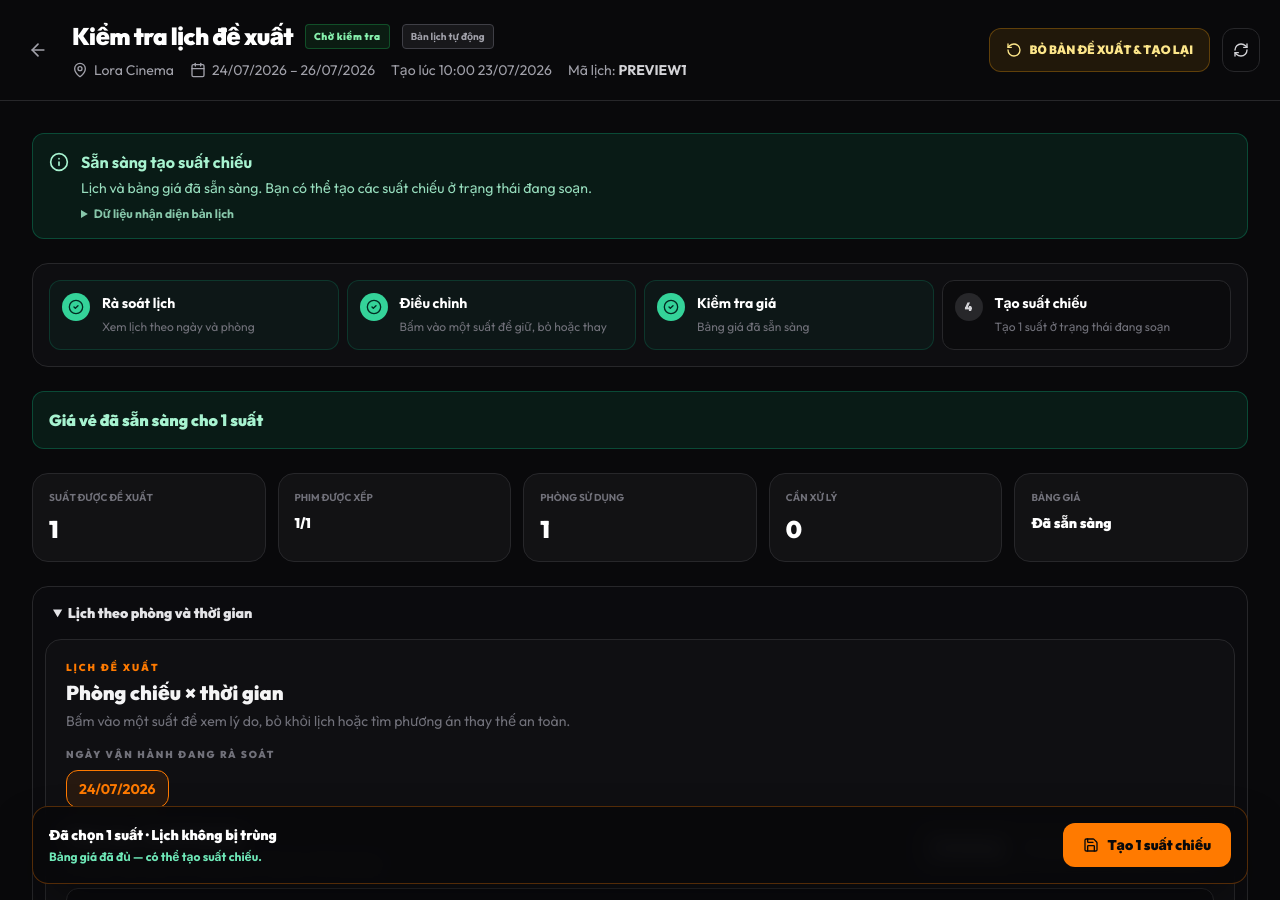
AdminAutoSchedulePreviewPage Milestone C › discards an unapplied preview and opens a prefilled recreate flow
Click the button "Bỏ bản đề xuất & tạo lại". click: x=1099, y=50
box: top-left (988, 28), bottom-right (1210, 72)
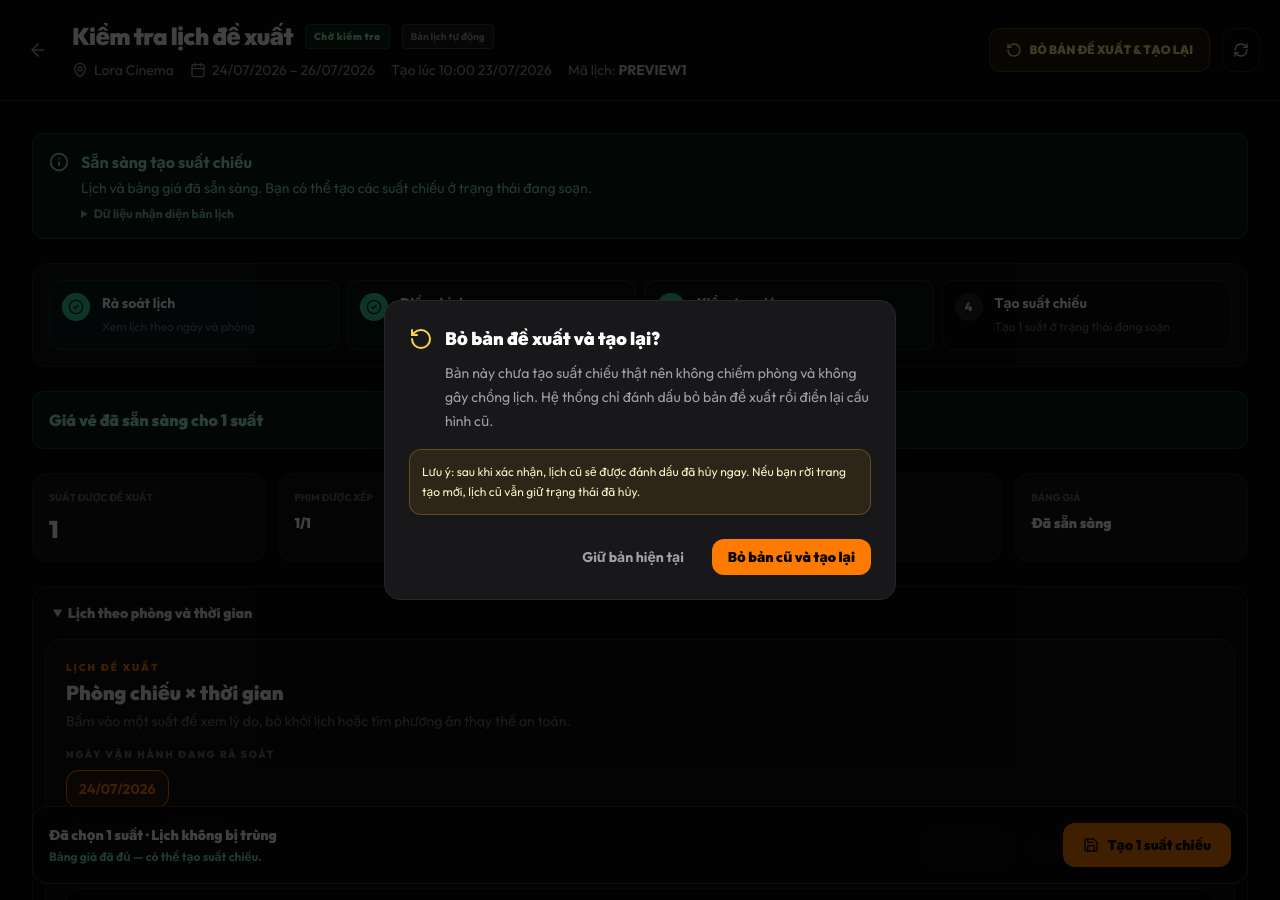
Check: the dialog shows "chưa tạo suất chiếu thật", box top-left (445, 364), bottom-right (869, 430)
Click the button "Bỏ bản cũ và tạo lại". click: x=791, y=557
box: top-left (712, 539), bottom-right (871, 575)
(page scrolled)
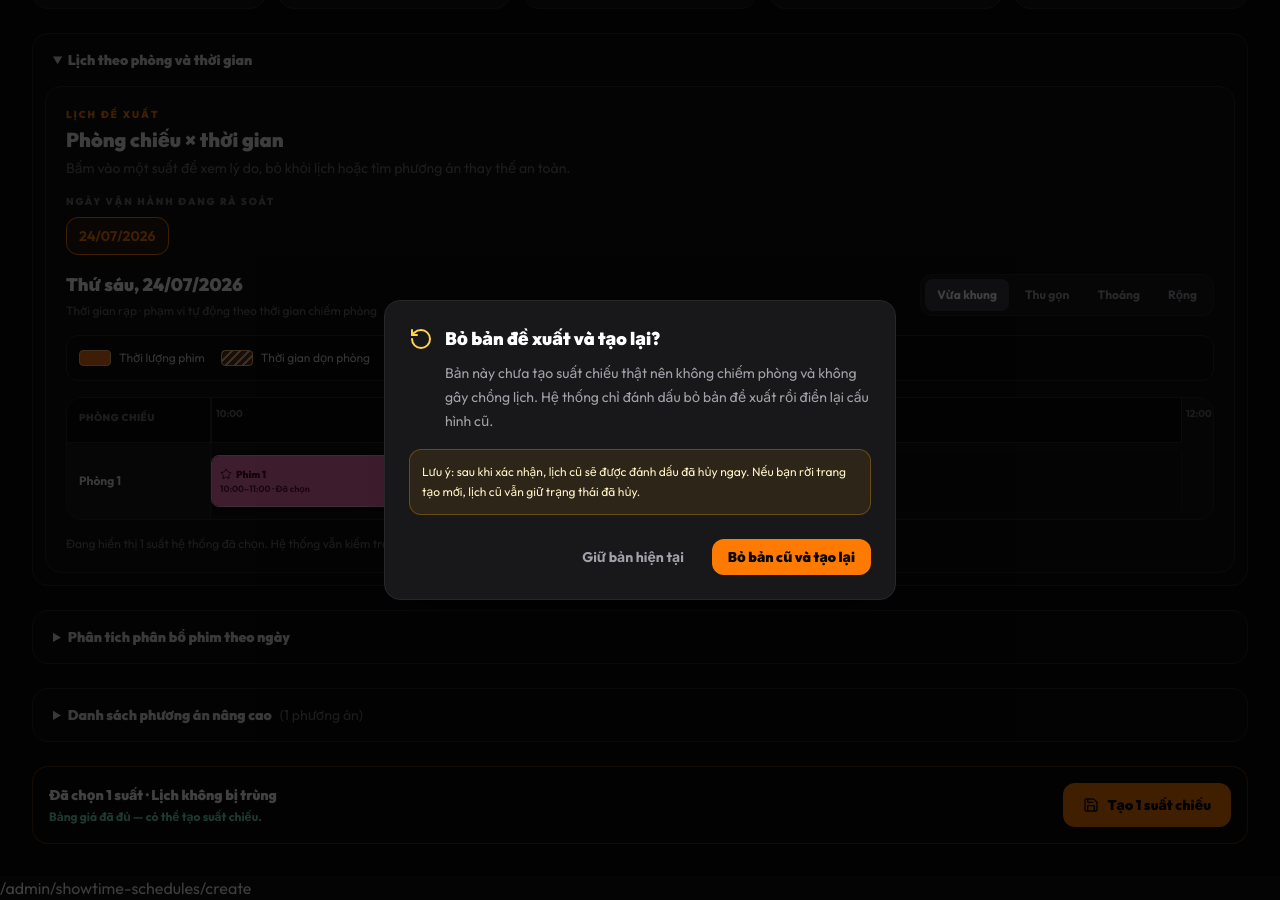
Check: the text with test id "location" reads "/admin/showtime-schedules/create", box top-left (0, 878), bottom-right (251, 898)
